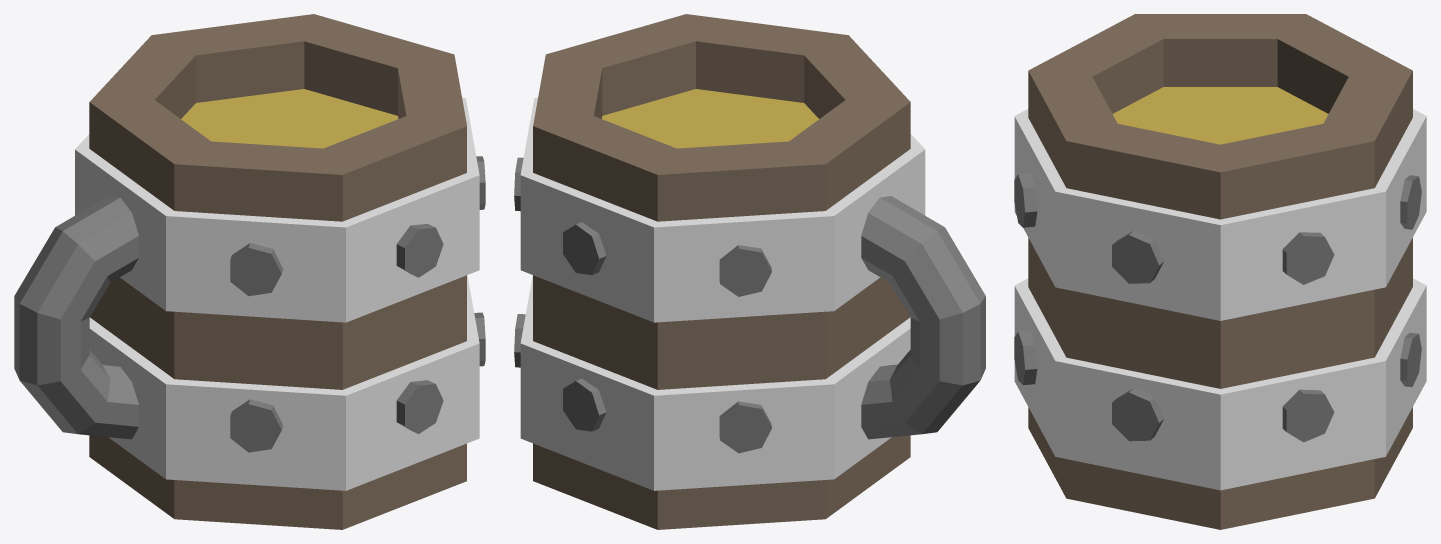
File: Cup_Full_Model.fbx
The picture shows the model from 3 angles, left to right: view 1: azimuth 30°, elevation 25°; view 2: azimuth 150°, elevation 25°; view 3: azimuth 270°, elevation 25°; orthographic projection.
Parts seen in each view (by area): view 1: Body, Top_Belt, Lower_Belt, Handle, pasted__pasted__pCylinder2, pasted__pCylinder2, pasted__pCylinder3, pCylinder2; view 2: Body, Top_Belt, Lower_Belt, Handle, pasted__pasted__pasted__pasted__pasted__pCylinder2, pasted__pasted__pasted__pasted__pCylinder2, pasted__pasted__pasted__pCylinder2, pasted__pasted__pasted__pasted__pCylinder3; view 3: Body, Top_Belt, Lower_Belt, pasted__pCylinder4, pasted__pasted__pCylinder3, pasted__pasted__pCylinder4, pasted__pasted__pasted__pCylinder3, pCylinder2, pasted__pCylinder3, pasted__pasted__pasted__pCylinder2, pasted__pasted__pasted__pasted__pCylinder3.
Boxes of the visible parts, box(x1,y1,x2,y2) form: Body: box(89, 14, 466, 529); Top_Belt: box(75, 97, 479, 322); Lower_Belt: box(89, 275, 479, 490); Handle: box(14, 196, 138, 439); pasted__pasted__pCylinder2: box(230, 399, 283, 452); pasted__pCylinder2: box(230, 243, 283, 296); pasted__pCylinder3: box(396, 380, 443, 434); pCylinder2: box(396, 223, 443, 277); Body: box(533, 14, 910, 529); Top_Belt: box(520, 97, 925, 322); Lower_Belt: box(520, 275, 910, 490); Handle: box(861, 196, 985, 439); pasted__pasted__pasted__pasted__pasted__pCylinder2: box(719, 401, 771, 453); pasted__pasted__pasted__pasted__pCylinder2: box(719, 245, 771, 296); pasted__pasted__pasted__pCylinder2: box(563, 222, 606, 275); pasted__pasted__pasted__pasted__pCylinder3: box(563, 378, 606, 431); Body: box(1028, 14, 1412, 529); Top_Belt: box(1014, 109, 1426, 320); Lower_Belt: box(1014, 278, 1426, 490); pasted__pCylinder4: box(1112, 231, 1164, 283); pasted__pasted__pCylinder3: box(1112, 388, 1164, 441); pasted__pasted__pCylinder4: box(1282, 232, 1334, 284); pasted__pasted__pasted__pCylinder3: box(1282, 389, 1334, 442); pCylinder2: box(1014, 173, 1037, 227); pasted__pCylinder3: box(1014, 330, 1037, 385); pasted__pasted__pasted__pCylinder2: box(1400, 175, 1421, 229); pasted__pasted__pasted__pasted__pCylinder3: box(1400, 332, 1421, 387).
Size of the model in its own units: 59.2 by 45 by 47.04.
